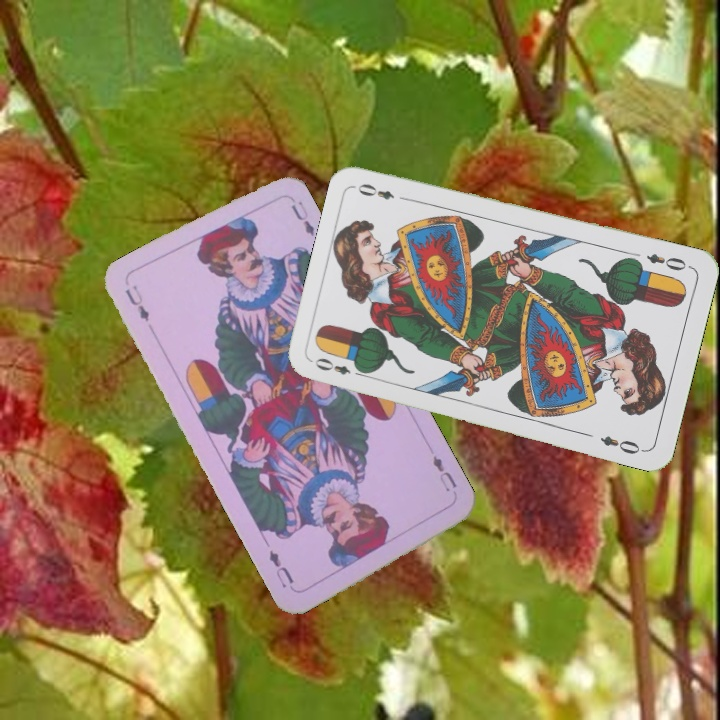EO: (310, 354, 368, 380), (642, 249, 689, 274)
EU: (428, 451, 460, 495), (121, 281, 152, 324)
